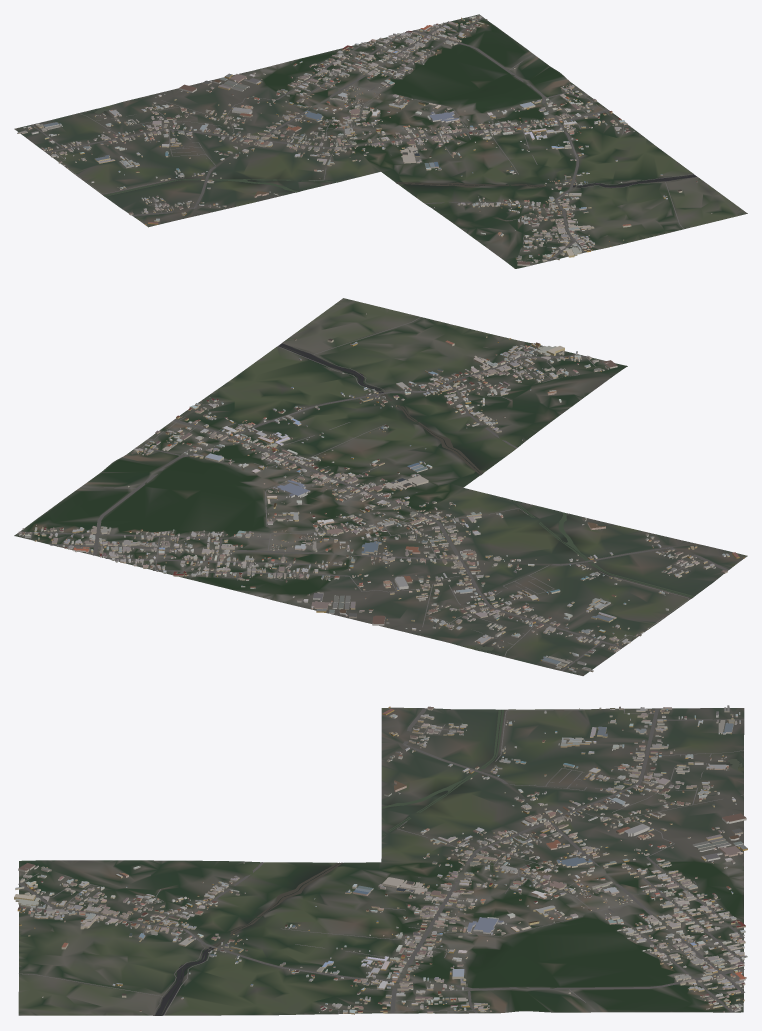
3 renders of one model, top to bottom at view 1: azimuth 30°, elevation 25°; view 2: azimuth 150°, elevation 25°; view 3: azimuth 270°, elevation 25°, orthographic. The views are drawn at different scales.
Parts seen in each view (by area): view 1: ground, buildings, roads, water; view 2: ground, buildings, roads, water; view 3: ground, buildings, roads, water.
Part boxes in pixels (x1=…): ground: x1=14, y1=14, x2=747, y2=268; buildings: x1=17, y1=15, x2=712, y2=266; roads: x1=31, y1=17, x2=697, y2=261; water: x1=94, y1=107, x2=696, y2=196; ground: x1=14, y1=298, x2=747, y2=675; buildings: x1=18, y1=313, x2=744, y2=672; roads: x1=21, y1=317, x2=729, y2=671; water: x1=278, y1=343, x2=694, y2=650; ground: x1=18, y1=707, x2=744, y2=1015; buildings: x1=14, y1=705, x2=747, y2=1014; roads: x1=18, y1=708, x2=744, y2=1015; water: x1=155, y1=709, x2=741, y2=1015.
Bounding box in the file's own units: 2816 × 27.52 × 2836.
